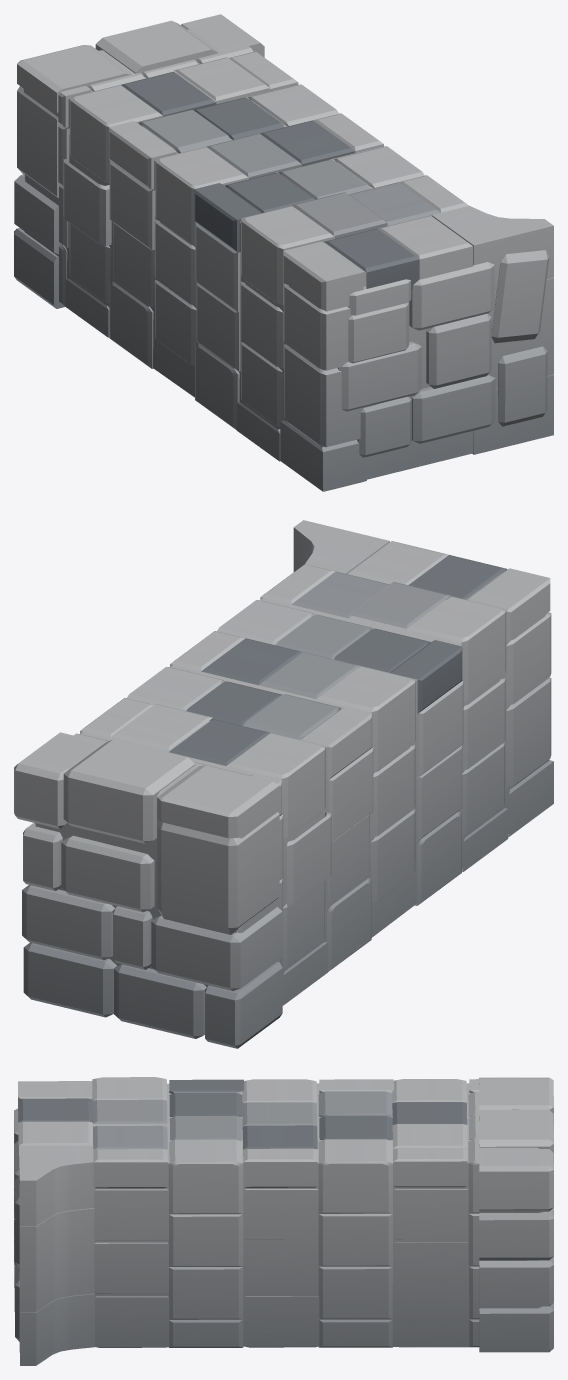
The model's file is soportalTumbado.fbx.
3 views of the same model, one above another, from view 1: azimuth 30°, elevation 25°; view 2: azimuth 150°, elevation 25°; view 3: azimuth 270°, elevation 25° (orthographic). The views are drawn at different scales.
Parts seen in each view (by area): view 1: abajo3; view 2: abajo3; view 3: abajo3.
Part boxes in pixels (x1,y1,x2,y2): abajo3: [14, 14, 553, 491]; abajo3: [14, 520, 553, 1048]; abajo3: [14, 1077, 553, 1365].
Size of the model in its own units: 586 by 518 by 1288.
